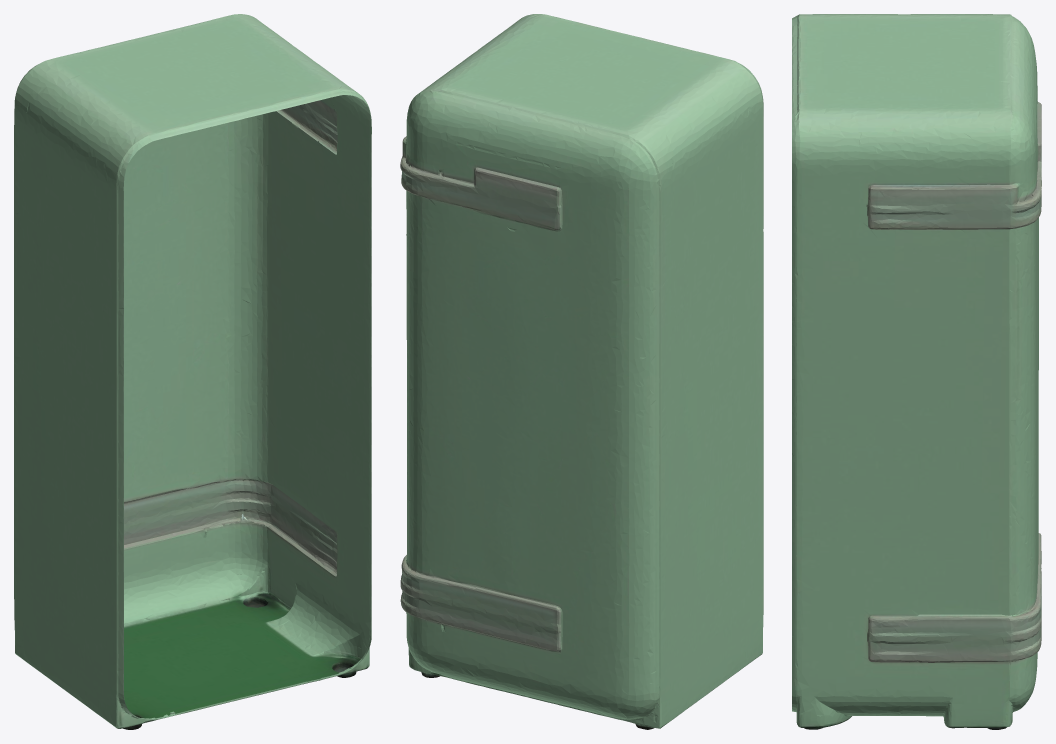
File: body.glb
3 renders of one model, left to right at view 1: azimuth 30°, elevation 25°; view 2: azimuth 150°, elevation 25°; view 3: azimuth 270°, elevation 25°, orthographic. The views are drawn at different scales.
Parts seen in each view (by area): view 1: source_surface_0; view 2: source_surface_0; view 3: source_surface_0.
Part boxes in pixels (left/top/right/bottom): source_surface_0: left=14, top=14, right=371, bottom=729; source_surface_0: left=400, top=14, right=763, bottom=729; source_surface_0: left=792, top=14, right=1041, bottom=729.
Bounding box in the file's own units: 0.6646 × 1.45 × 0.5395.
1 material, 1 textured.
